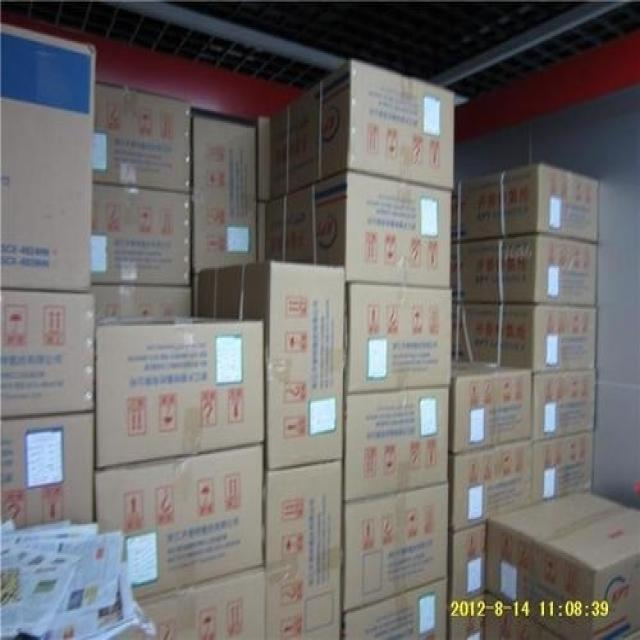box: (191, 258, 343, 466), (94, 309, 266, 468), (92, 442, 266, 597), (1, 19, 95, 290), (267, 63, 454, 196), (487, 488, 638, 636), (266, 171, 451, 285), (266, 458, 344, 638), (343, 481, 450, 611), (341, 281, 454, 395), (340, 383, 448, 500), (452, 164, 599, 248), (1, 288, 96, 415), (113, 563, 266, 637), (0, 410, 96, 526), (94, 81, 192, 193), (452, 233, 599, 307), (193, 111, 258, 271), (453, 302, 597, 373), (94, 182, 193, 281), (449, 357, 534, 456), (449, 442, 536, 529), (344, 577, 451, 637), (533, 371, 598, 441), (536, 434, 594, 504), (445, 521, 490, 611), (486, 595, 564, 638), (94, 280, 191, 312), (244, 117, 271, 197), (450, 596, 488, 638), (257, 196, 271, 259)
